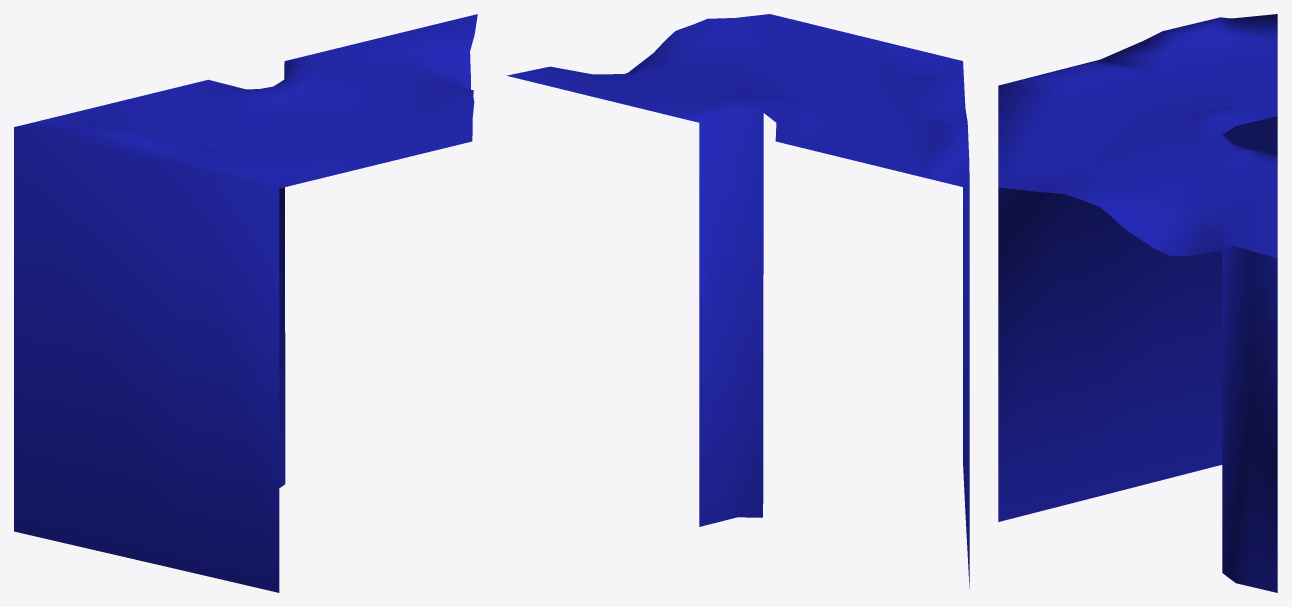
File: f_link_right.fbx
3 views of the same model, side by side, from view 1: azimuth 30°, elevation 25°; view 2: azimuth 150°, elevation 25°; view 3: azimuth 270°, elevation 25° (orthographic). The views are drawn at different scales.
Parts seen in each view (by area): view 1: f_link_left_01; view 2: f_link_left_01; view 3: f_link_left_01.
Part boxes in pixels (<box>): f_link_left_01: <box>14,14,477,592</box>; f_link_left_01: <box>507,14,969,588</box>; f_link_left_01: <box>998,14,1277,592</box>.
Size of the model in its own units: 2400 by 2061 by 1159.
